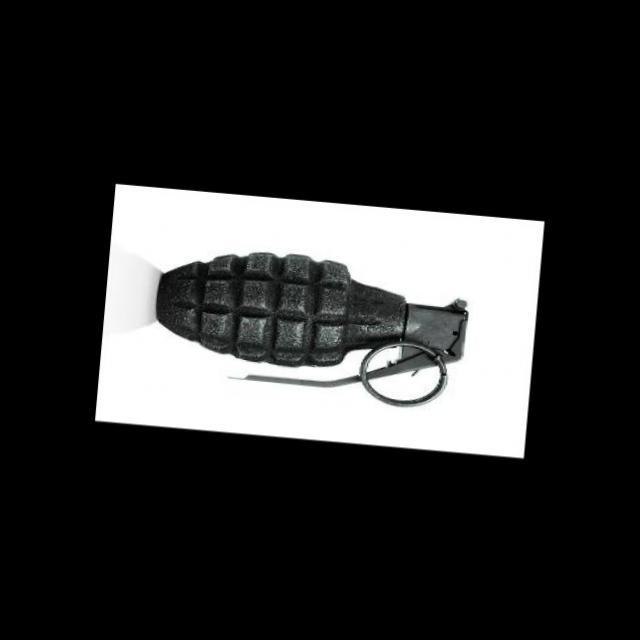grenade: (131, 232, 501, 418)
